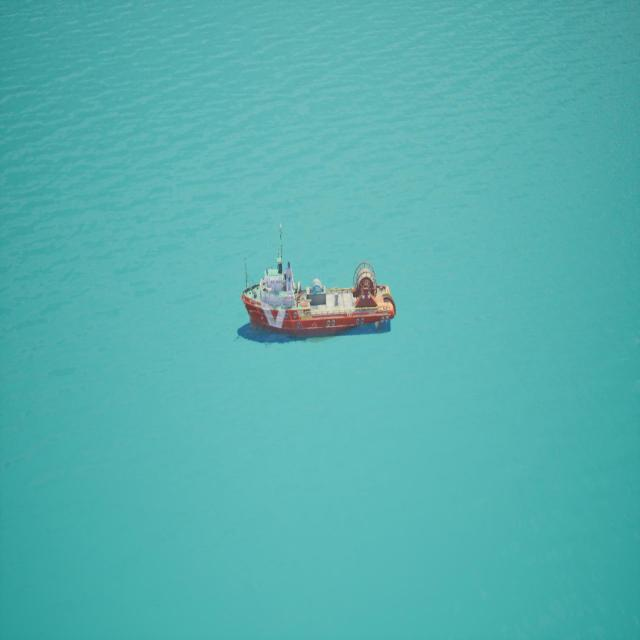tug boat: (251, 225, 385, 421)
